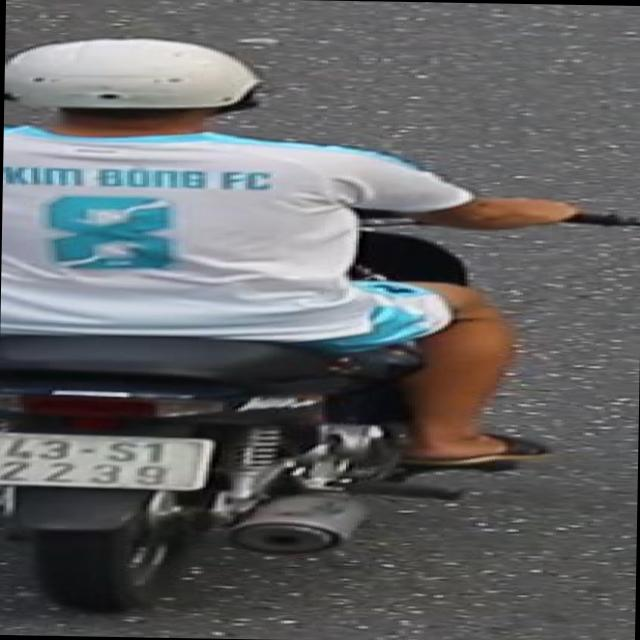LP: (0, 428, 225, 496)
helmet: (8, 30, 264, 149)
